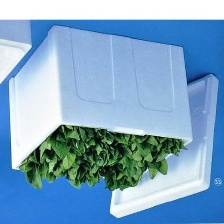foam_box: (4, 22, 223, 221)
